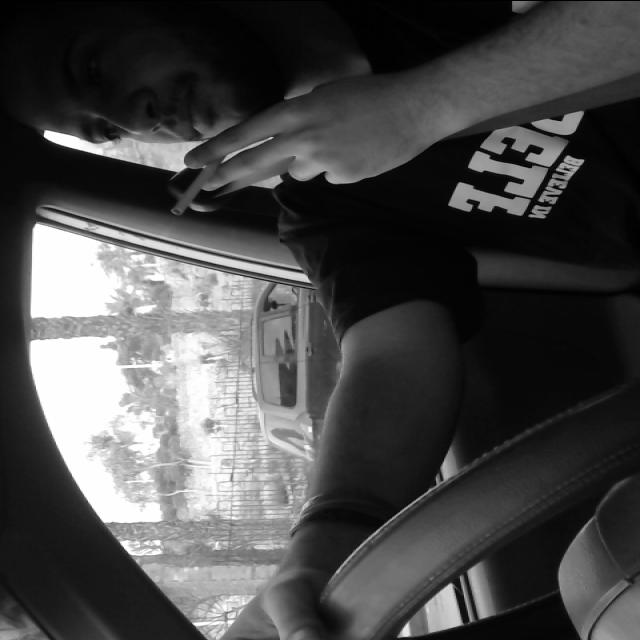smoking: (170, 139, 226, 227)
